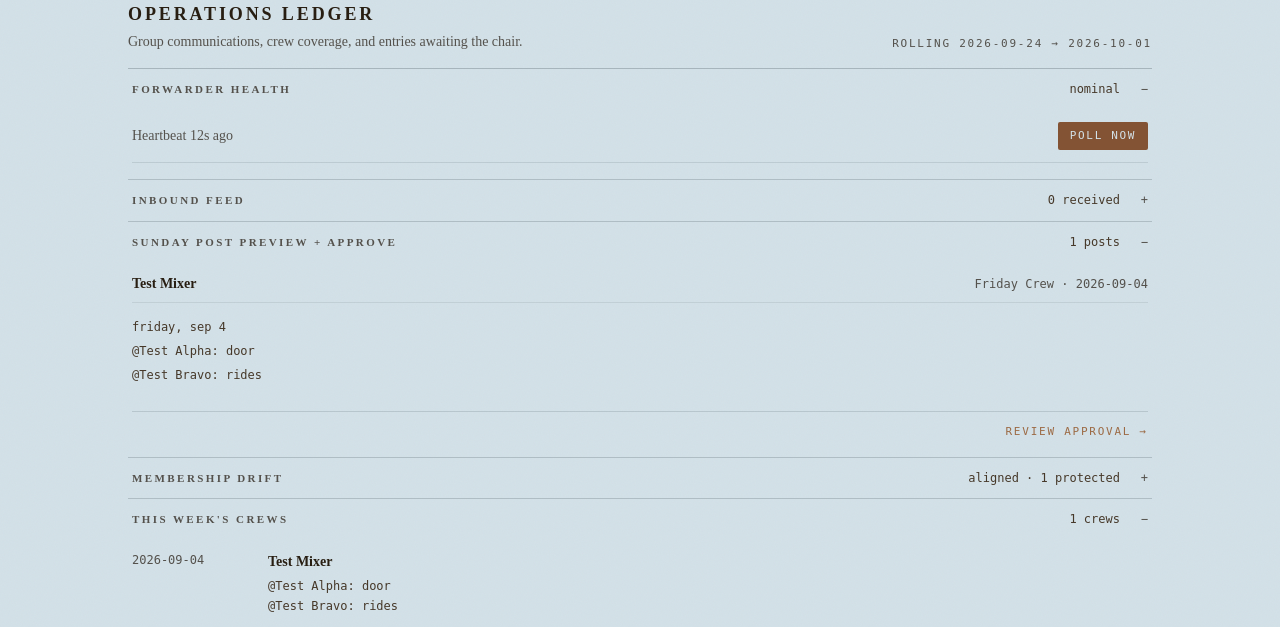
Ops — membership protection › shows why a hard-excluded member was kept in the parent group
Check: the text "aligned · 1 protected" is shown, box [968,470,1120,486]
Click the button "Membership drift aligned · 1 protected +" at (208, 478), box [128,458,1152,498]
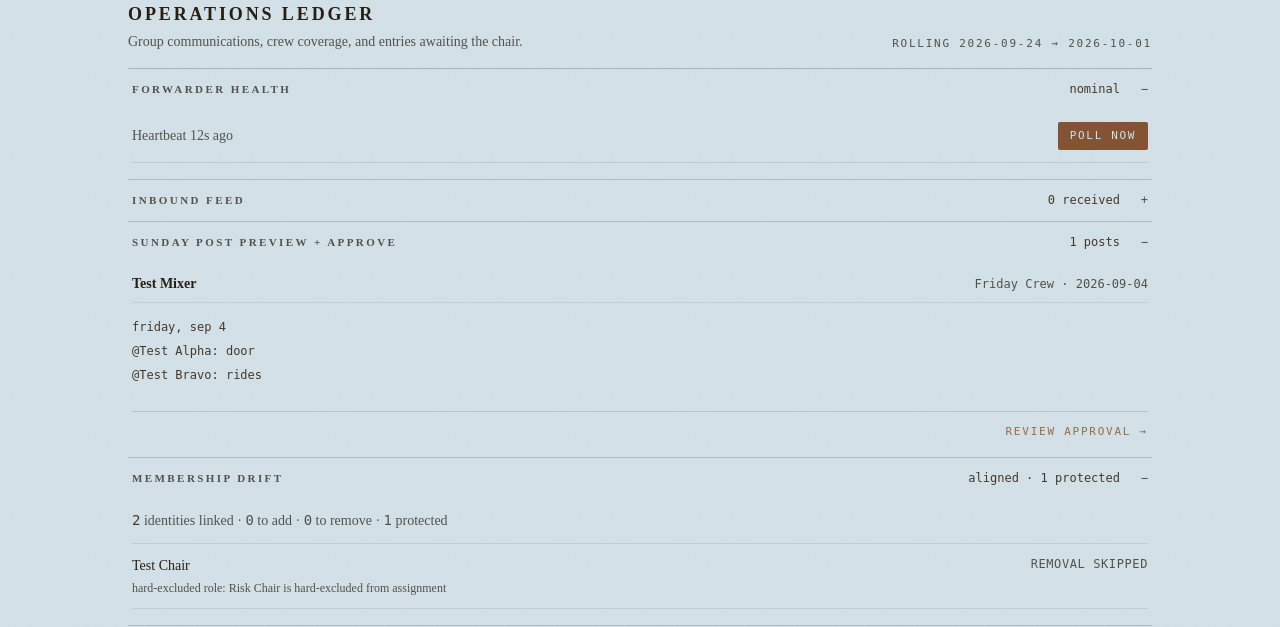
Check: the text "Test Chair" is shown, box [132,558,190,573]
Check: the text "removal skipped" is shown, box [1031,556,1148,576]
Check: the text "hard-excluded role: Risk Chair is hard-excluded from assignment" is shown, box [132,581,446,595]
